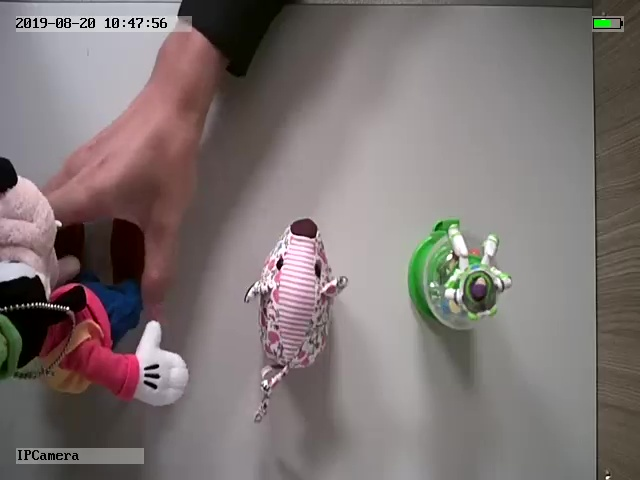buzz: (405, 218, 515, 334)
pig: (242, 216, 348, 424)
